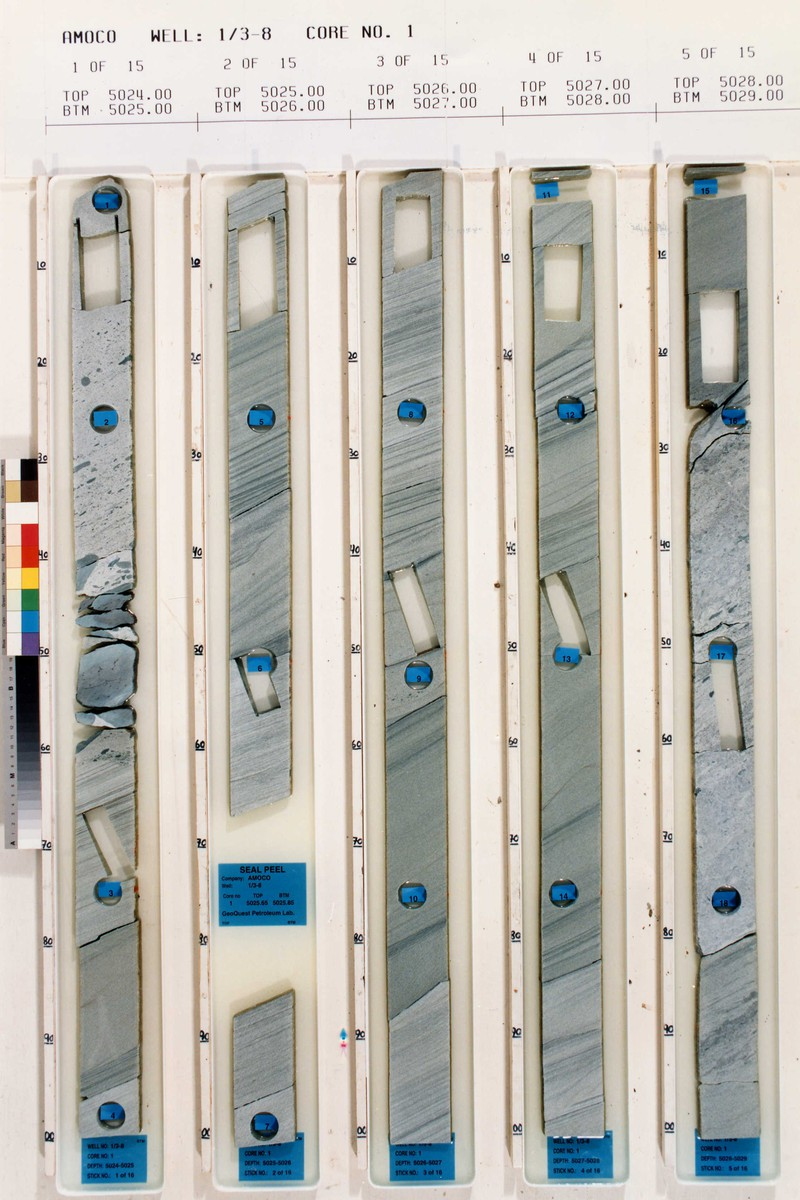core: (67, 175, 157, 1135), (374, 171, 458, 1146), (525, 168, 609, 1138), (523, 166, 607, 1136), (681, 164, 758, 1140), (219, 177, 302, 814), (225, 988, 310, 1145)
